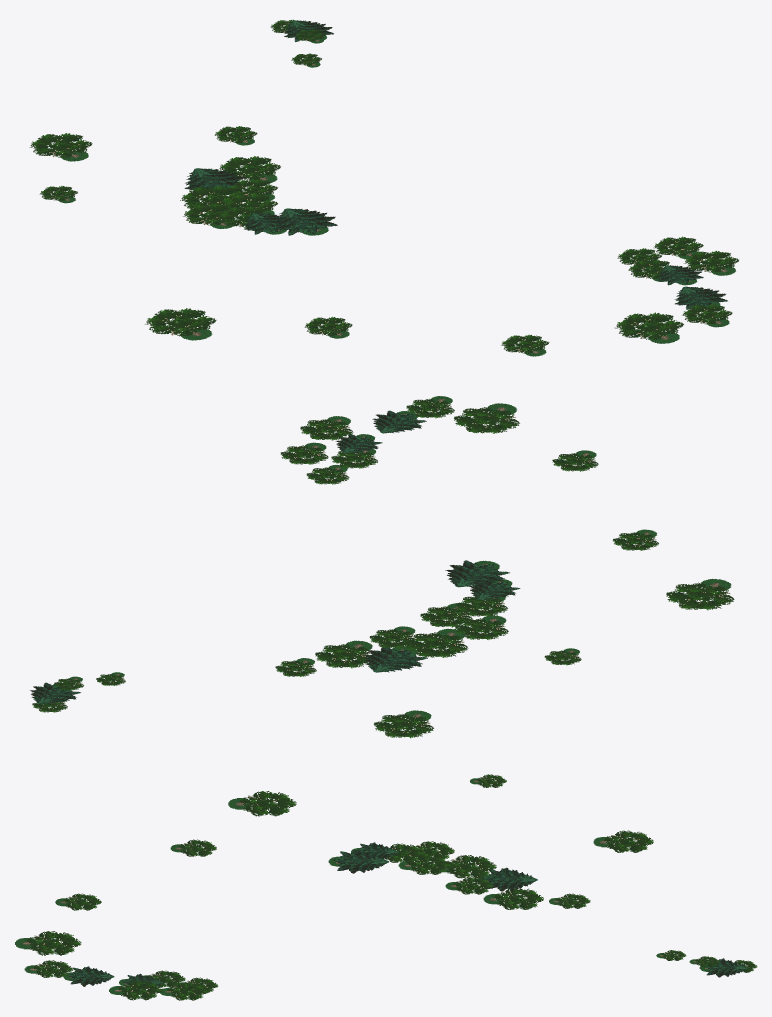
The model's file is glf_map_fc5__glf_tree_fc5.glb.
3 renders of one model, top to bottom at view 1: azimuth 30°, elevation 25°; view 2: azimuth 150°, elevation 25°; view 3: azimuth 270°, elevation 25°, orthographic. The views are drawn at different scales.
Visible parts, largest first — view 1: polygon0, polygon21; view 2: polygon0, polygon21; view 3: polygon0, polygon21.
Part boxes in pixels (x1,y1,x2,y2): polygon0: (29,19,738,356); polygon21: (184,20,727,309); polygon0: (32,396,734,738); polygon21: (30,410,520,704); polygon0: (15,774,757,1000); polygon21: (63,842,747,989).
Size of the model in its own units: 2638 by 190 by 3829.
2 materials, 2 textured.
